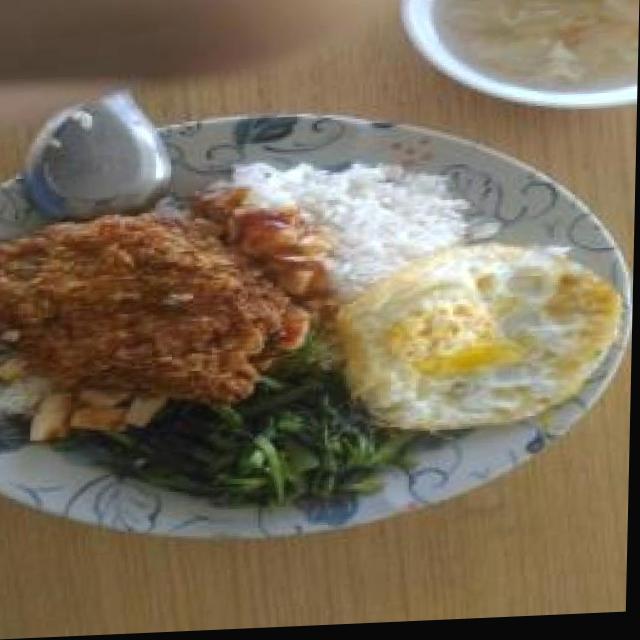fried_chicken: (0, 213, 294, 408)
fried_eggs: (330, 246, 626, 439)
rice: (248, 164, 463, 269)
water_spinach: (93, 378, 413, 514)
